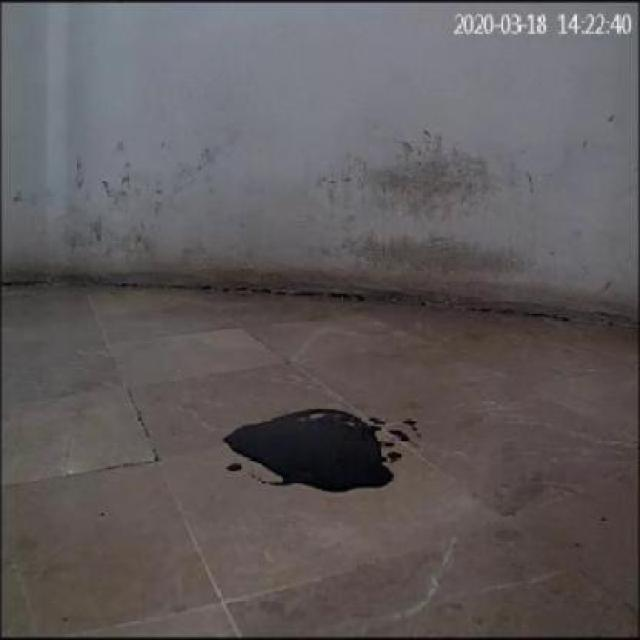spillage: (228, 403, 400, 492)
